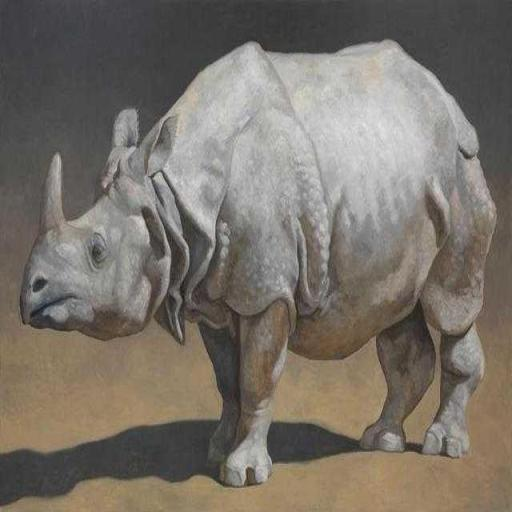Rhino: (18, 35, 498, 488)
